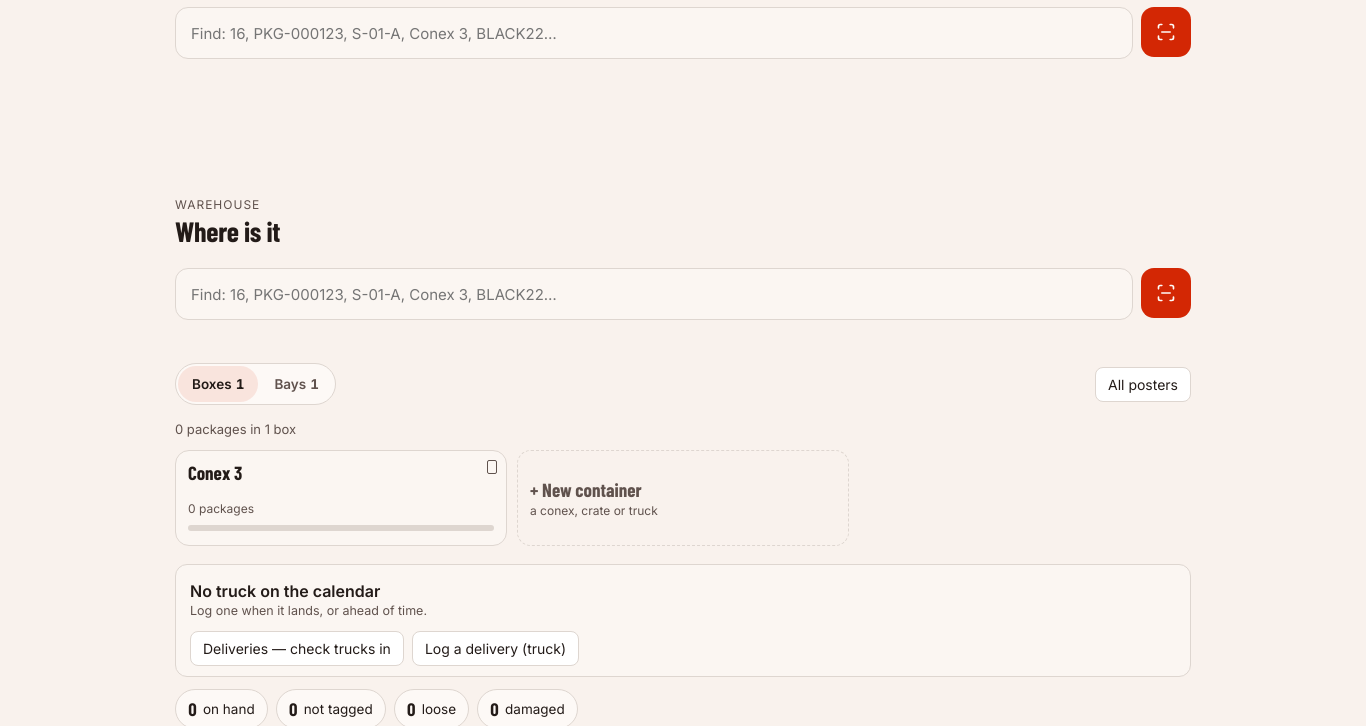
the bays are their own picture (owner call 2026-09-06) › keeps bays off the boxes view and shows them on their own
(page scrolled)
Expected: the button with class "yard-view" reads "Boxes1", x1=178 y1=366 x2=258 y2=402
Click the button with class "yard-view" showing "Bays1": click(297, 384) x1=260 y1=366 x2=333 y2=402
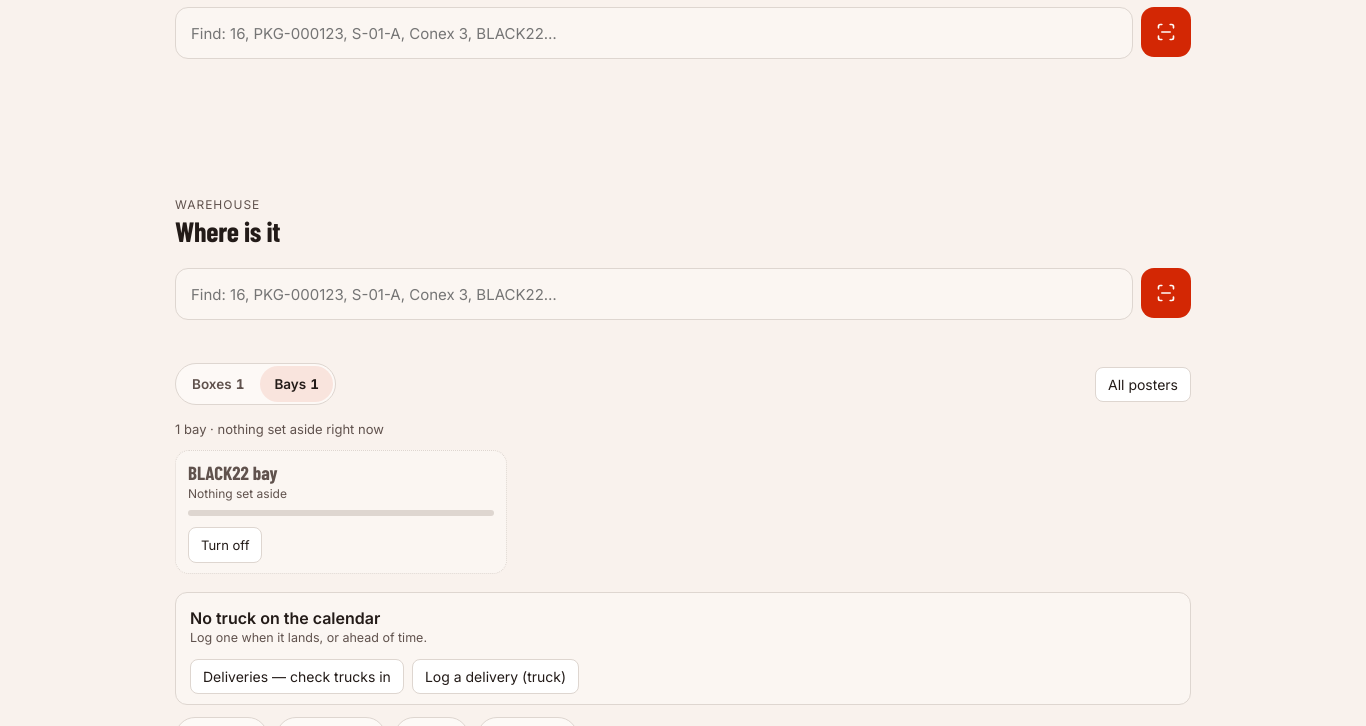
Expected: the list item "Conex 3 0 packages" is gone
Expected: the text with class "yard-summary" reads "1 bay · nothing set aside right now", x1=175 y1=421 x2=384 y2=437
